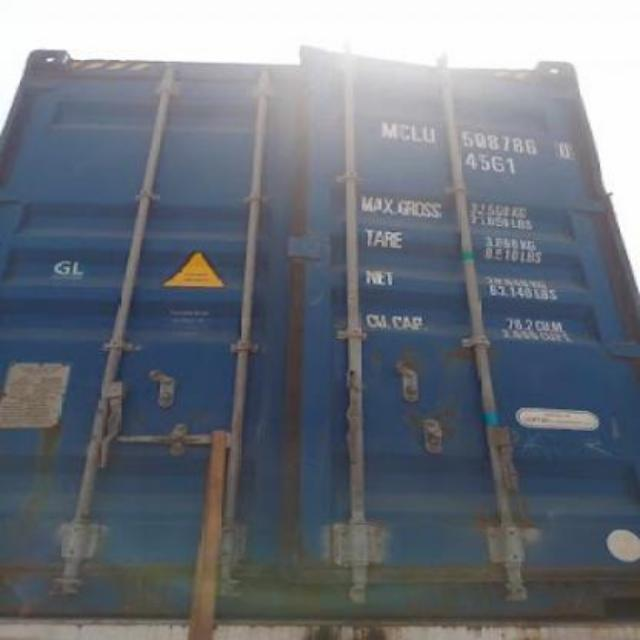0: (472, 128, 490, 150)
5: (458, 126, 476, 150)
6: (524, 136, 538, 156)
7: (500, 133, 512, 153)
8: (510, 134, 526, 156), (486, 130, 499, 152)
C: (396, 121, 412, 141)
L: (408, 122, 424, 144)
M: (378, 120, 399, 142)
U: (422, 122, 438, 144)
